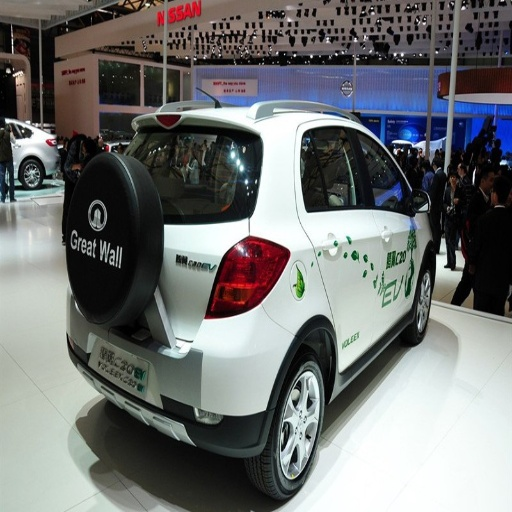back_bumper: (129, 305, 292, 454)
back_right_door: (298, 123, 379, 368)
tailgate: (147, 231, 218, 338)
trunk: (201, 225, 245, 318), (163, 227, 207, 289)
